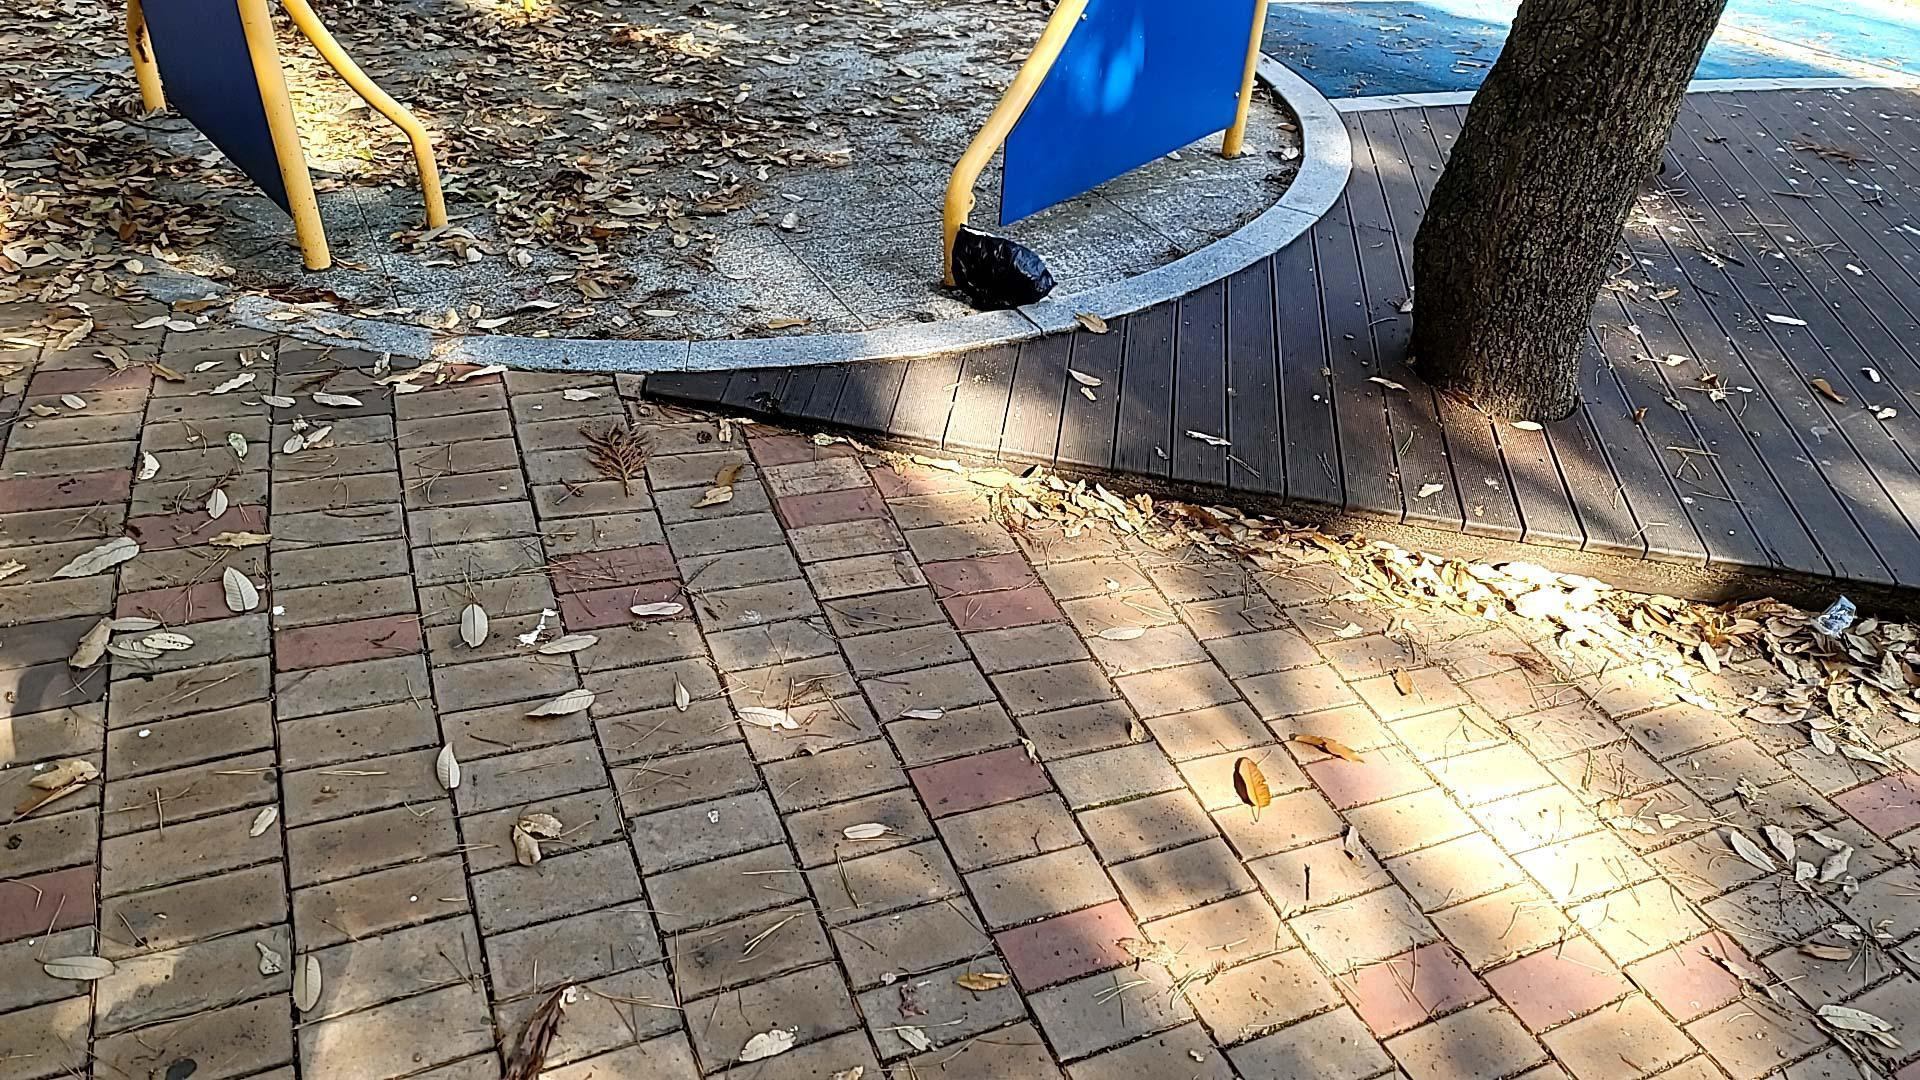black_bag: (943, 216, 1062, 315)
